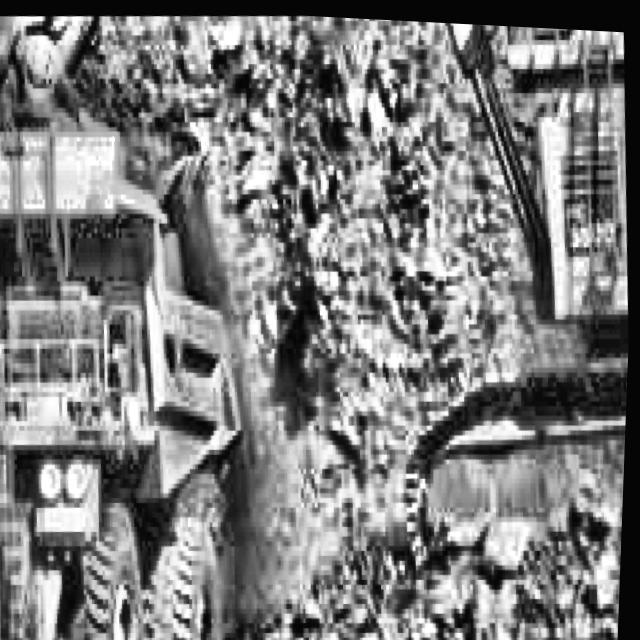dump_truck: (0, 74, 306, 640)
